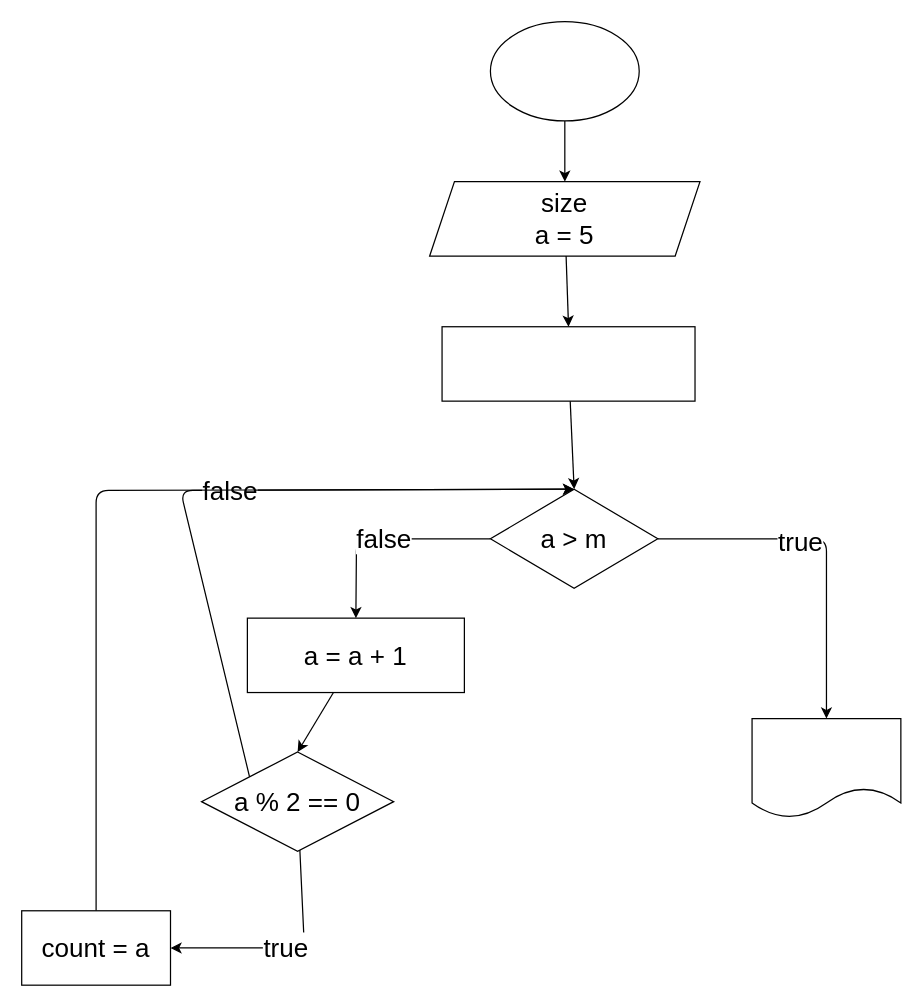
The diagram is 923 pixels wide and 1007 high, and some of its shapes have lost their labels. Each missing label, with the centre of its shape:
"a = 0 m = 5" belongs at point (568, 363).
"count" belongs at point (826, 767).
"start" belongs at point (564, 70).
